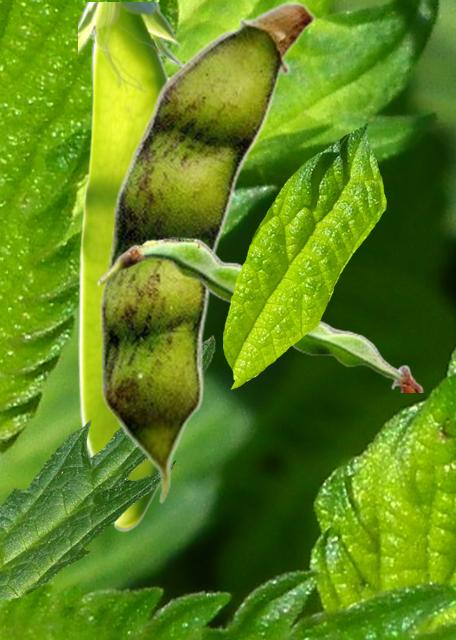pea: (100, 0, 315, 503), (78, 2, 184, 531), (97, 237, 423, 391)
